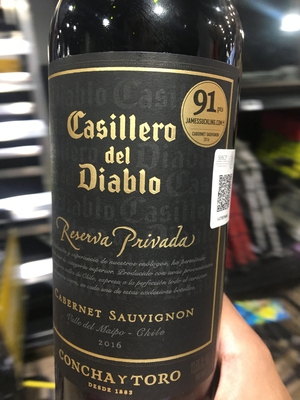casillero del diablo reserva privada cabernet sauvignon: (47, 12, 244, 400)
